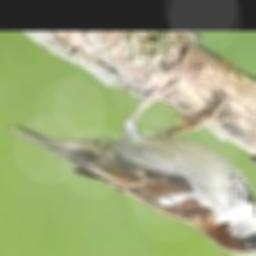Sparrow: (3, 77, 256, 256)
